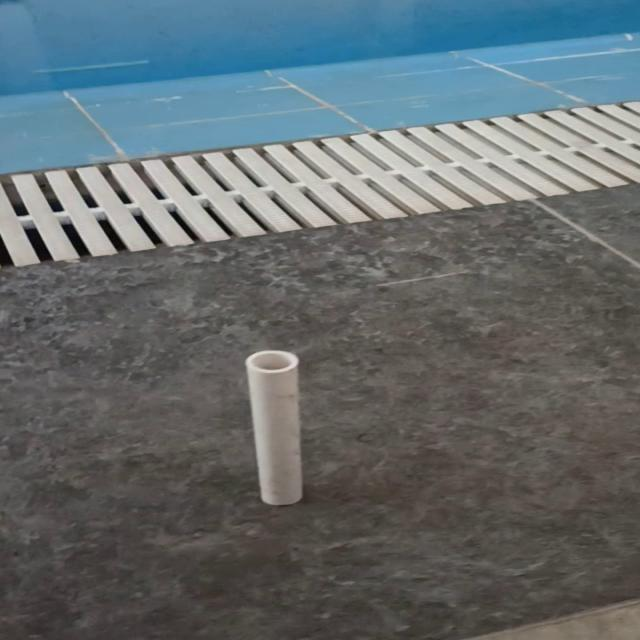Cube: (243, 350, 304, 506)
